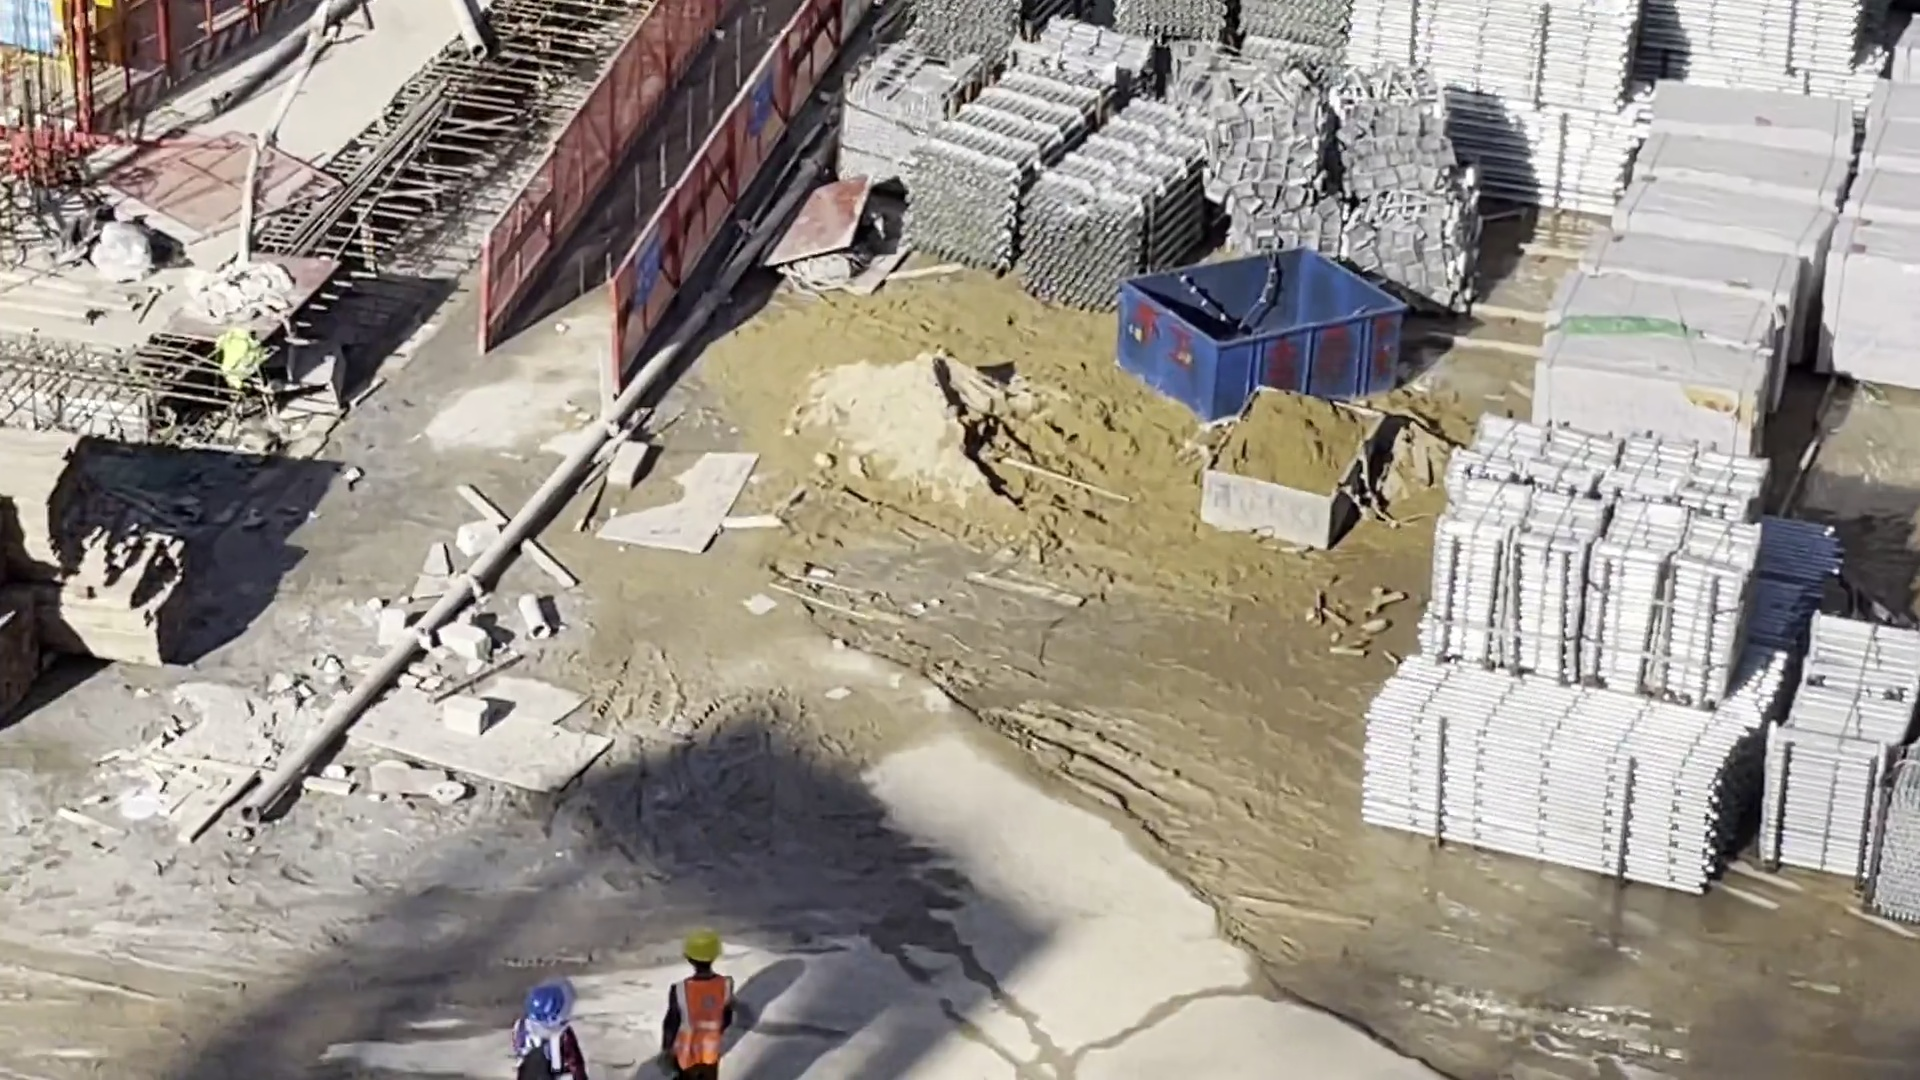fence: (489, 1, 848, 353)
helmet: (527, 986, 564, 1025), (682, 932, 721, 961)
hopper: (1116, 249, 1400, 418), (1201, 385, 1383, 550)
person: (667, 933, 732, 1080), (515, 985, 582, 1080)
scaffold: (1429, 420, 1747, 708), (1367, 661, 1746, 896), (916, 70, 1220, 318), (1346, 1, 1644, 214), (1769, 619, 1900, 879), (1645, 1, 1875, 122), (1106, 3, 1343, 77), (911, 1, 1088, 54)
slogan: (1, 1, 52, 56), (636, 233, 663, 306), (750, 68, 773, 133)
vest: (673, 979, 732, 1073), (523, 1026, 575, 1064)
wood: (1, 425, 194, 658)
